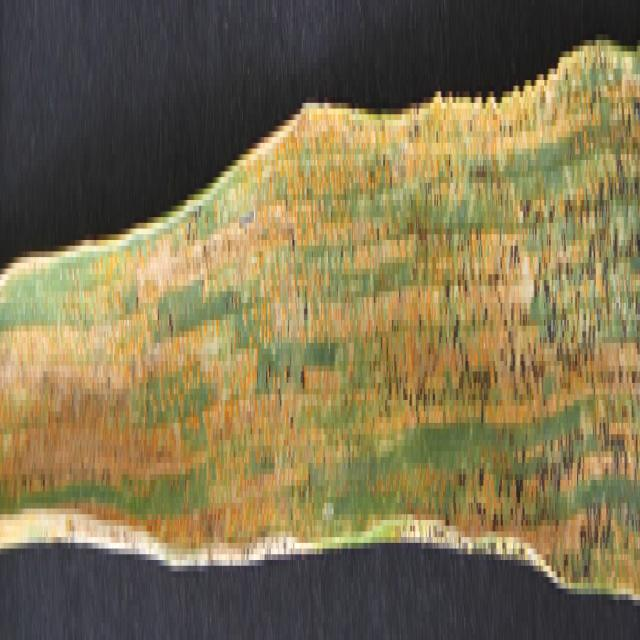leaf rust: (0, 57, 640, 600)
